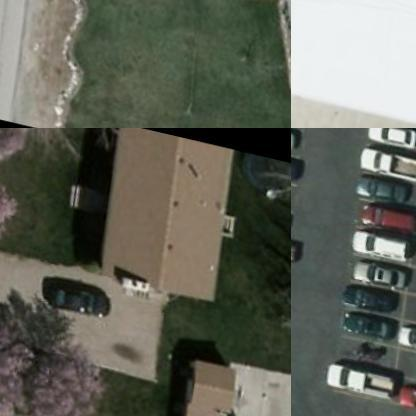car: (40, 278, 116, 324), (323, 358, 394, 399), (350, 169, 415, 204), (348, 226, 414, 260), (356, 196, 415, 232), (357, 143, 415, 178), (336, 308, 396, 340), (336, 280, 395, 312), (352, 256, 411, 288), (359, 128, 415, 149), (390, 378, 415, 415), (389, 320, 415, 353), (291, 146, 310, 181), (291, 230, 305, 265)
